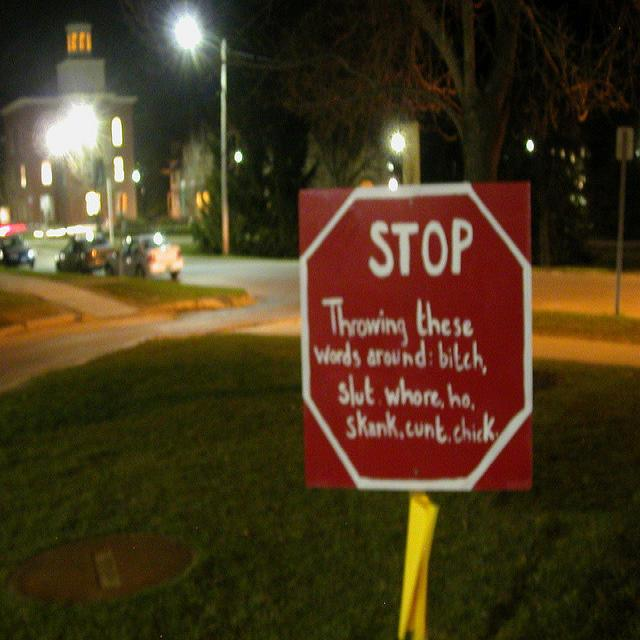Vehicle: (104, 236, 183, 284), (58, 236, 112, 272), (1, 233, 34, 270)
